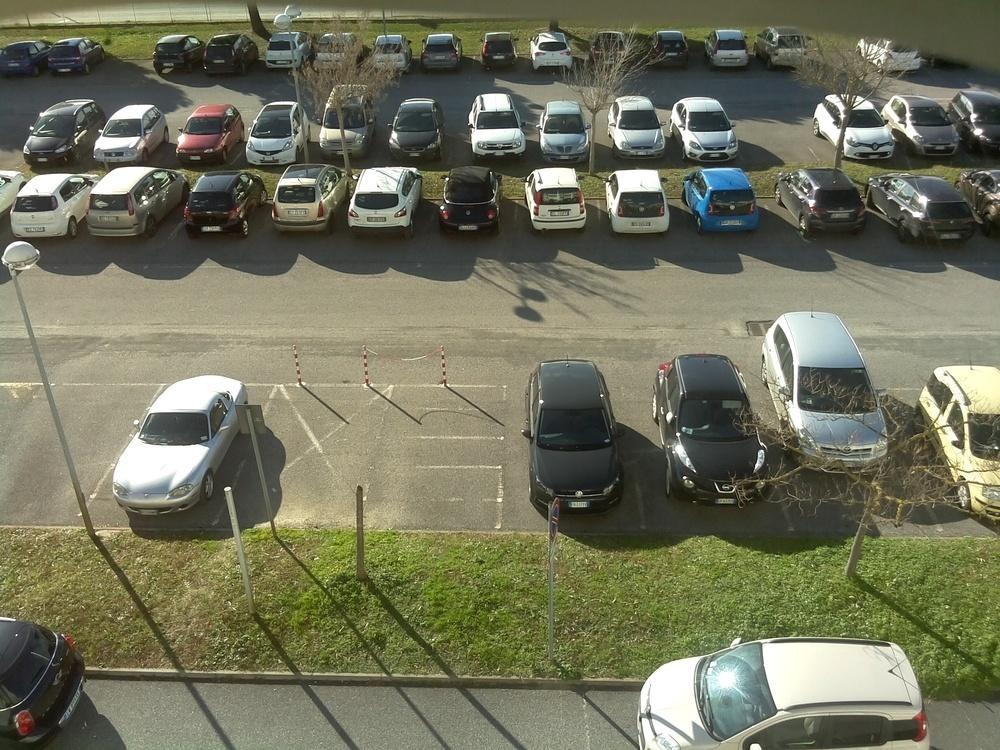empty: (641, 636, 948, 750), (768, 310, 901, 469), (104, 367, 247, 514), (648, 348, 781, 502), (525, 356, 636, 511), (4, 619, 83, 743), (875, 172, 983, 247), (76, 168, 183, 243), (928, 370, 997, 481), (84, 135, 169, 215), (782, 169, 876, 238), (340, 163, 424, 237), (681, 169, 771, 237), (428, 166, 511, 237), (6, 172, 88, 242), (600, 172, 682, 240), (816, 97, 903, 161), (265, 163, 343, 234), (176, 134, 251, 207), (669, 93, 750, 160), (180, 173, 263, 238), (18, 102, 101, 167), (459, 90, 535, 160), (889, 93, 970, 157), (91, 104, 170, 168), (522, 168, 595, 234), (167, 107, 247, 167), (601, 97, 673, 162), (385, 95, 453, 160), (534, 100, 599, 164), (319, 92, 379, 160), (238, 107, 307, 166), (954, 96, 1000, 154), (758, 29, 820, 72), (40, 40, 103, 80), (701, 28, 758, 71), (201, 34, 258, 76), (414, 35, 470, 75), (969, 172, 1000, 244), (529, 33, 582, 75), (257, 33, 308, 74), (582, 30, 635, 69), (152, 35, 205, 73), (312, 33, 365, 70), (644, 33, 695, 69), (0, 44, 48, 81), (479, 36, 524, 72)
occupied: (247, 666, 528, 741), (7, 382, 117, 522), (808, 29, 876, 76), (744, 117, 805, 158), (104, 42, 154, 75)
